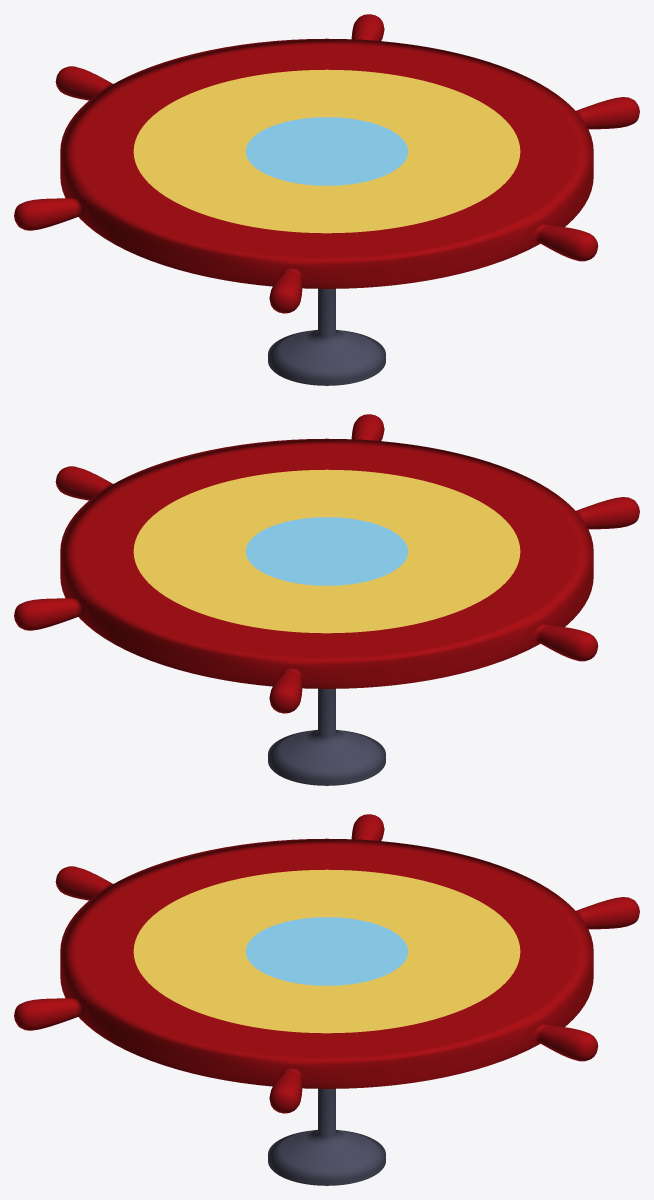
File: Mesa.obj
3 renders of one model, top to bottom at view 1: azimuth 30°, elevation 25°; view 2: azimuth 150°, elevation 25°; view 3: azimuth 270°, elevation 25°, orthographic.
Parts seen in each view (by area): view 1: Cylinder.001; view 2: Cylinder.001; view 3: Cylinder.001.
Part boxes in pixels (x1,y1,x2,y2): Cylinder.001: (14,14,639,385); Cylinder.001: (14,414,639,785); Cylinder.001: (14,814,639,1185).
Bounding box in the file's own units: 0.7362 × 0.2556 × 0.6892.
Materials: 1 (1 with a texture image).
